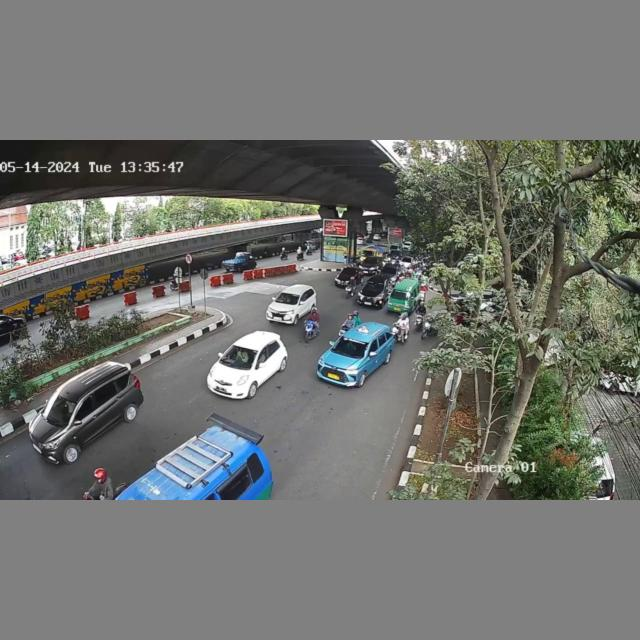windshield: (43, 394, 78, 424), (219, 345, 259, 369), (332, 337, 369, 356), (275, 292, 301, 306)
